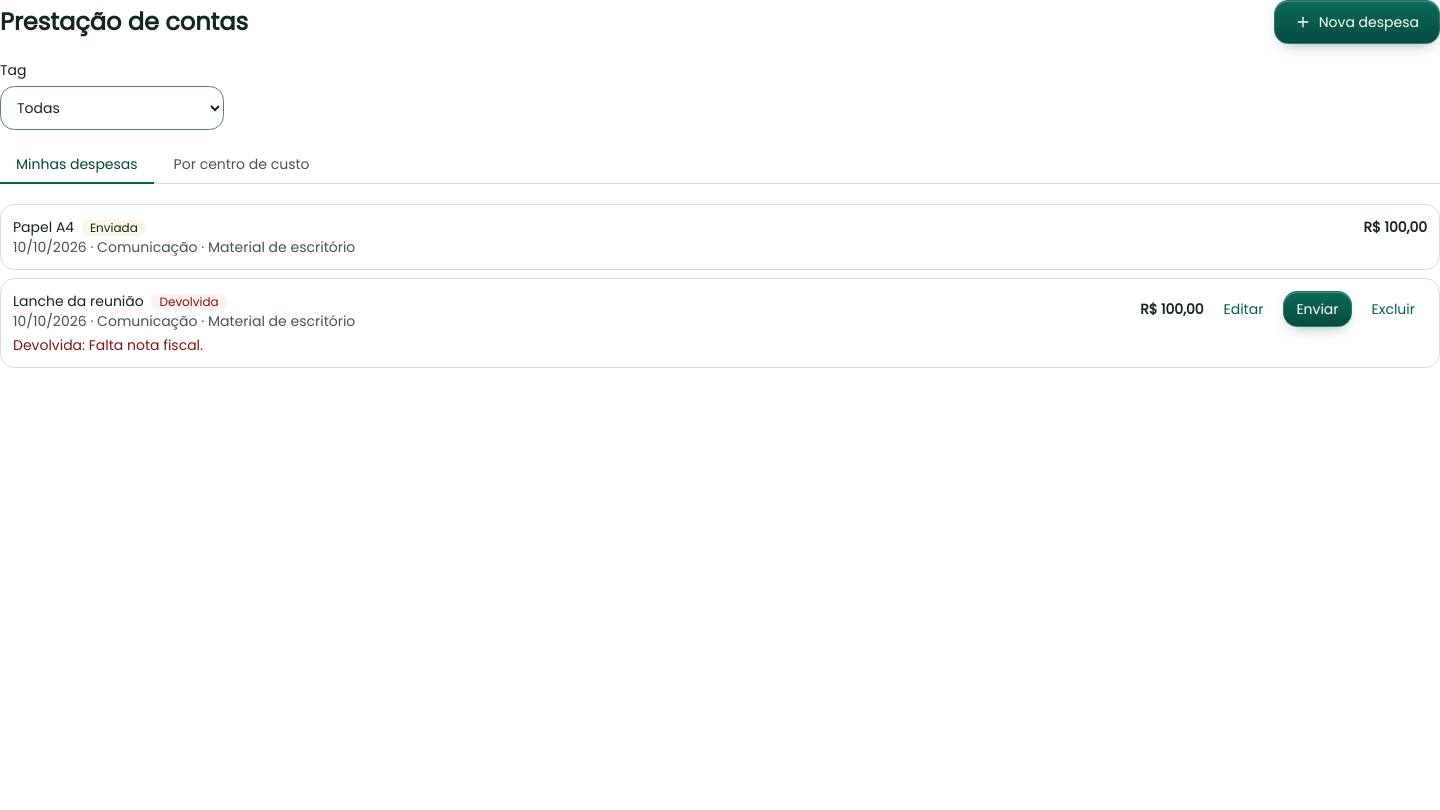
Prestação de contas › aplica tag numa despesa e filtra por ela em todas as abas
The image size is (1440, 810).
Click the button "Nova despesa": (1357, 22) [1274,0,1439,44]
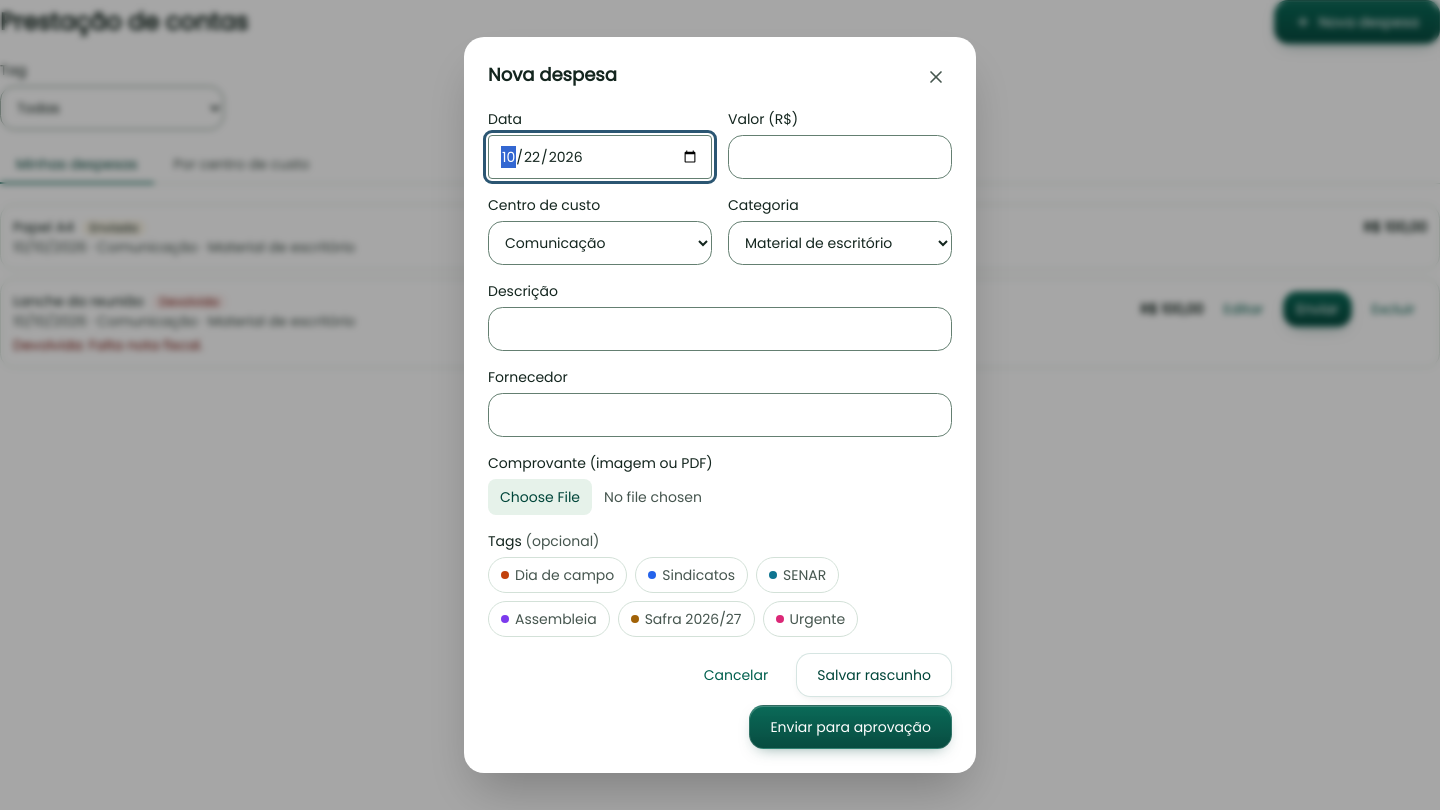
In the field labelled "Descrição": (720, 329) [488,307,952,351], type "Faixa da assembleia"
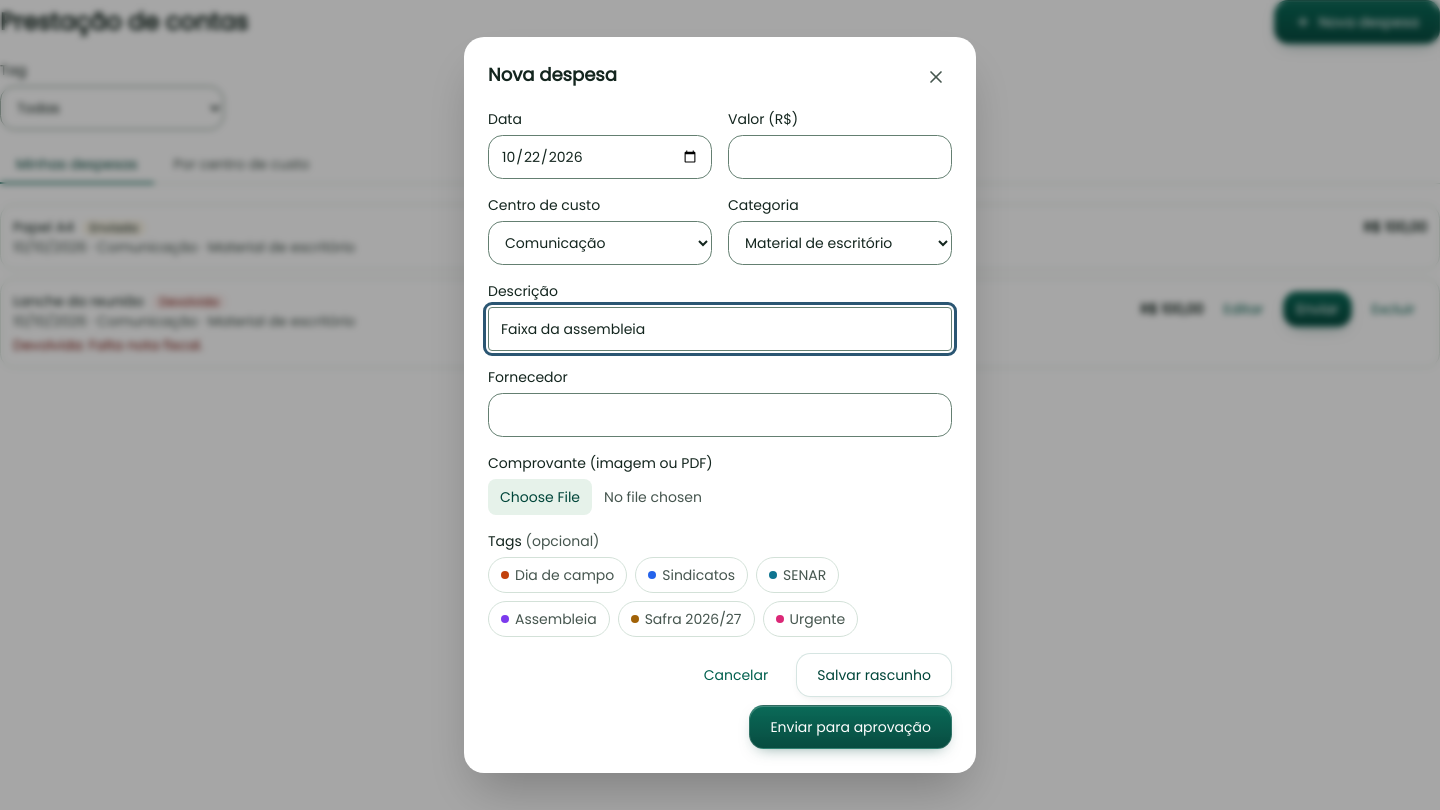
In the field labelled "Valor (R$)": (840, 157) [728,135,952,179], type "90"
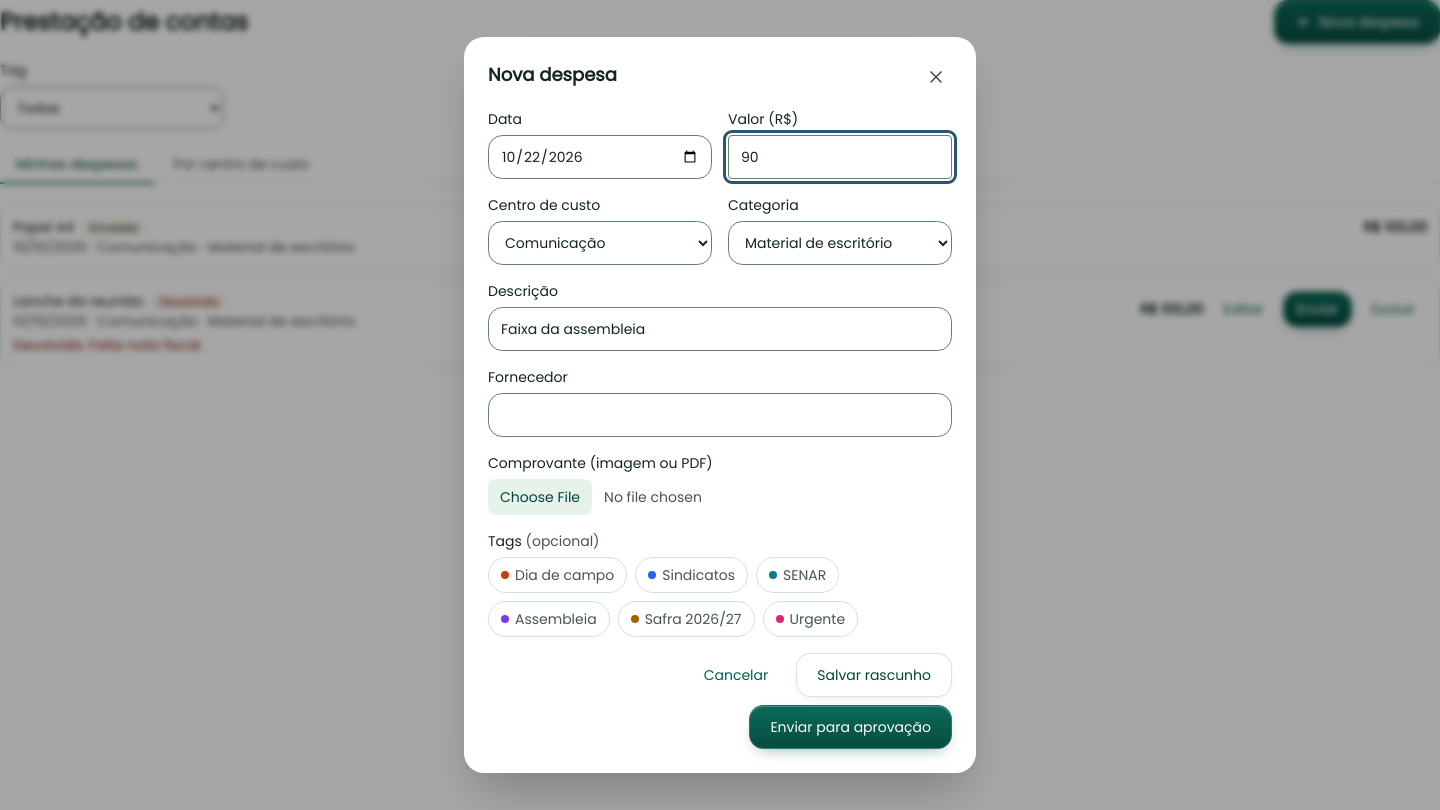
Click the checkbox labelled "Assembleia": (549, 619) [488,601,610,637]
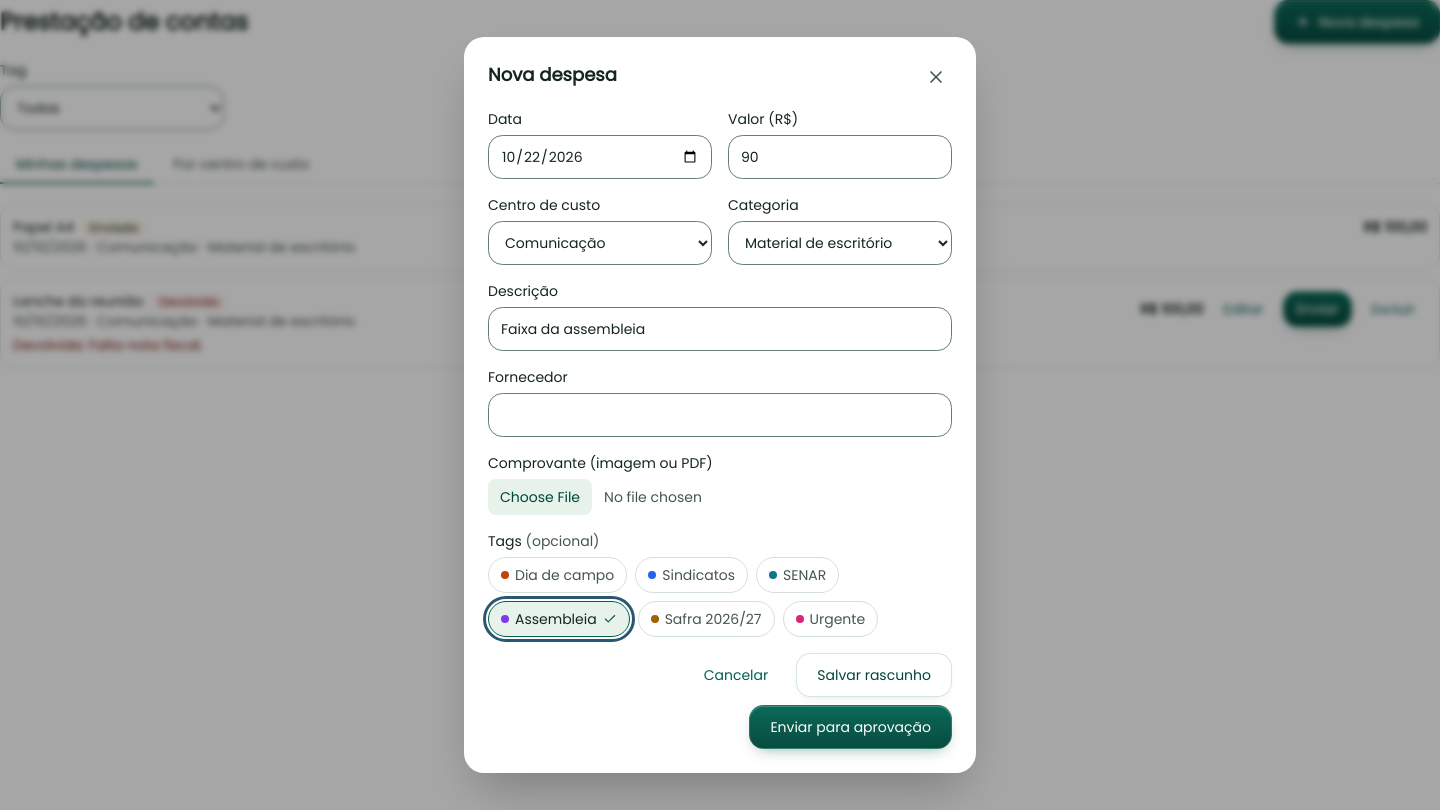
Click the button "Salvar rascunho": (874, 675) [796,653,952,697]
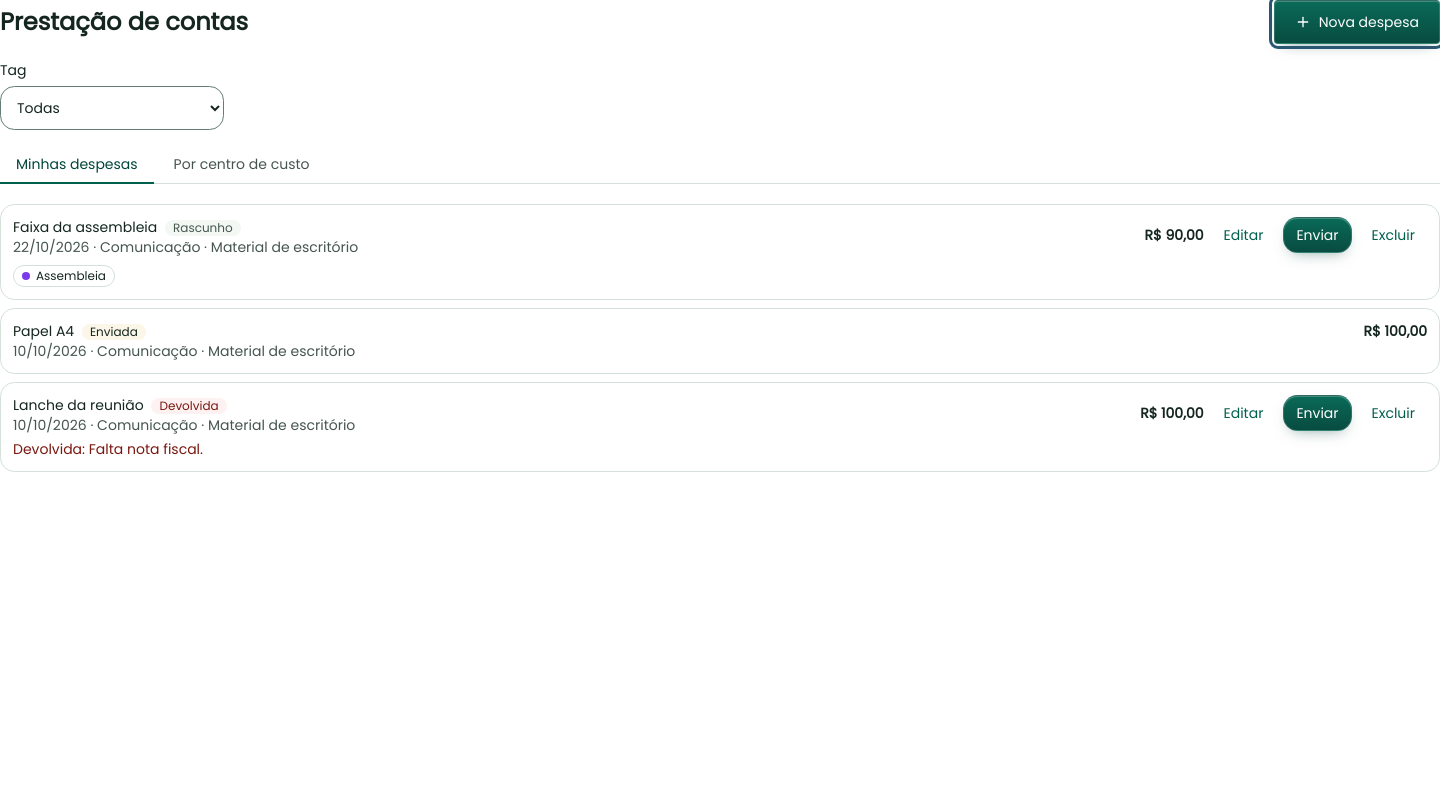
Select "Assembleia" in the dropdown labelled "Tag": (112, 108) [0,86,224,130]
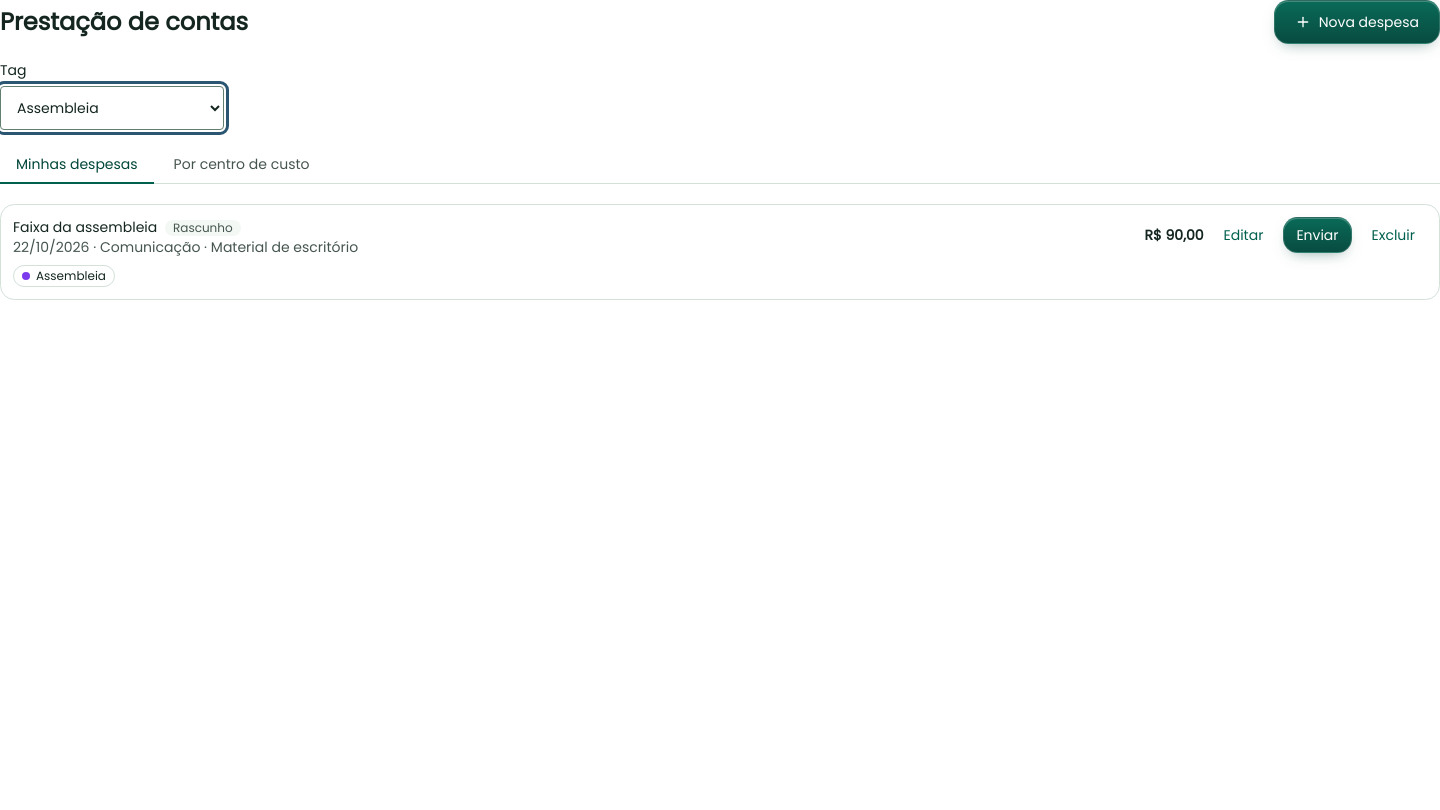
Result: the text "Faixa da assembleia" is shown at [13,217,157,237]
Result: the list named "Tags" reads "Assembleia" at [36,267,106,284]
Result: the text "Papel A4" is gone
